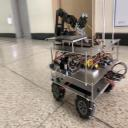cart: (44, 38, 121, 120)
